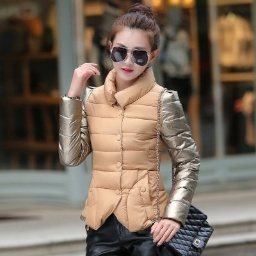face: (104, 4, 161, 79)
